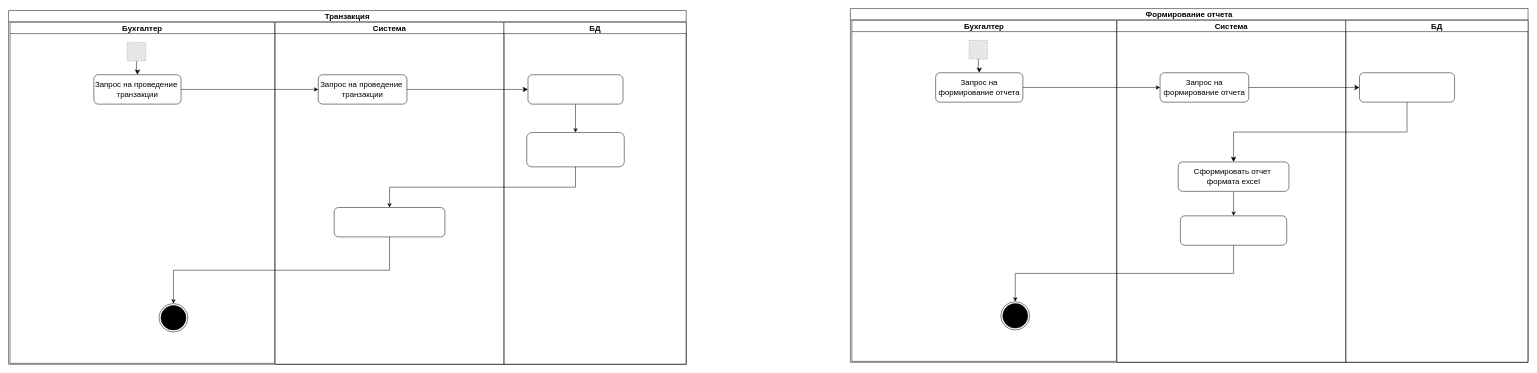
This 1537x373 diagram has some shape labels left out. Grey dashed boxes stand in for pictures. The shapes that lost their labels are listed below. From the top down, each one's centre as x and y in pixels, then its label:
At point 575,89: "Списывание суммы с валютного счета клиента".
At point 1407,87: "Предоставить данные для формирования отчета".
At point 575,149: "Перевод списанной суммы на счет валюты магазина".
At point 389,222: "Отправка ответа".
At point 1233,230: "Отправка отчета на пользовательский ПК".
